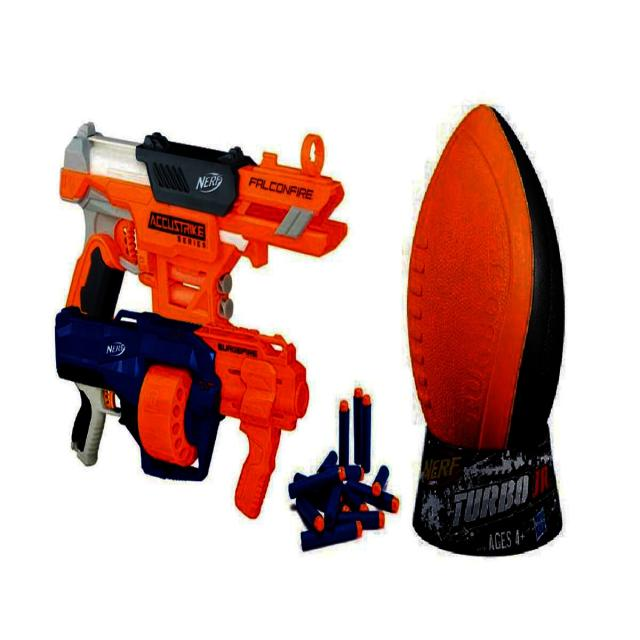Nerf gun: (49, 111, 354, 335), (49, 300, 315, 526)
